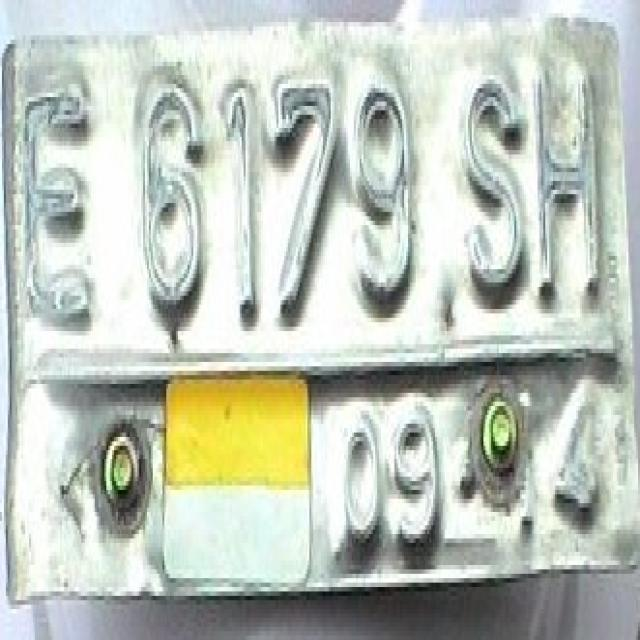plate: (0, 18, 636, 569)
